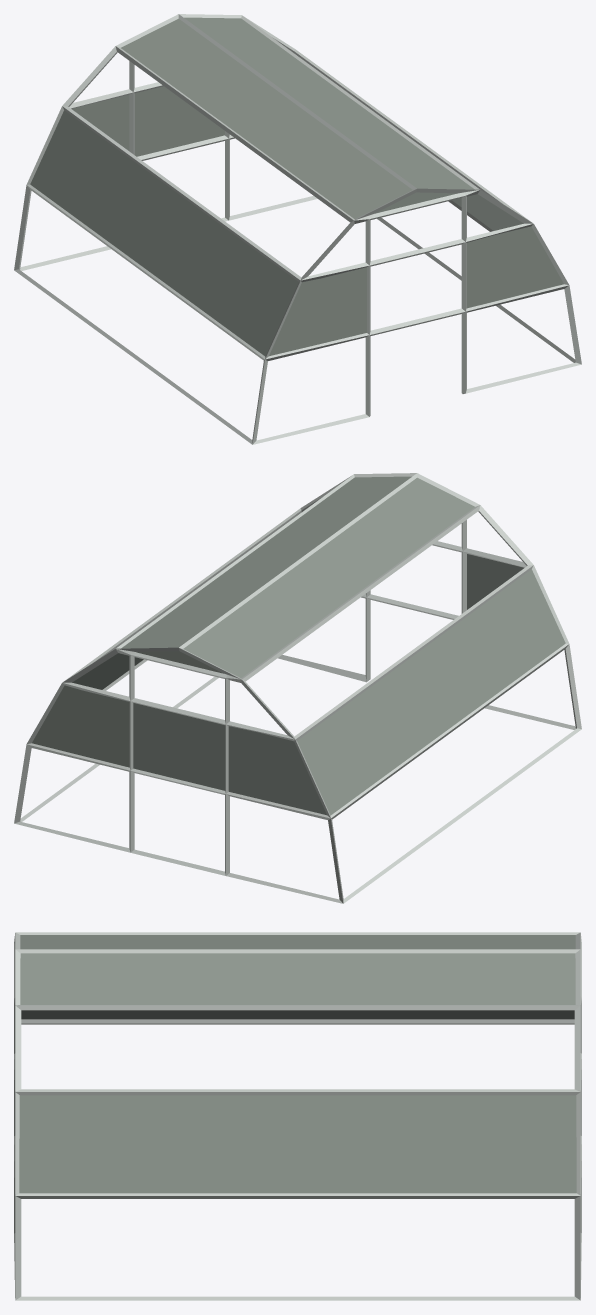
The model's file is GreenHouse_2.fbx.
3 renders of one model, top to bottom at view 1: azimuth 30°, elevation 25°; view 2: azimuth 150°, elevation 25°; view 3: azimuth 270°, elevation 25°, orthographic. The views are drawn at different scales.
Parts seen in each view (by area): view 1: GreenHouse_2; view 2: GreenHouse_2; view 3: GreenHouse_2.
Boxes of the visible parts, x1=… form: GreenHouse_2: x1=14, y1=14, x2=581, y2=444; GreenHouse_2: x1=14, y1=473, x2=581, y2=903; GreenHouse_2: x1=14, y1=932, x2=581, y2=1300.
Bounding box in the file's own units: 506 × 321 × 637.
